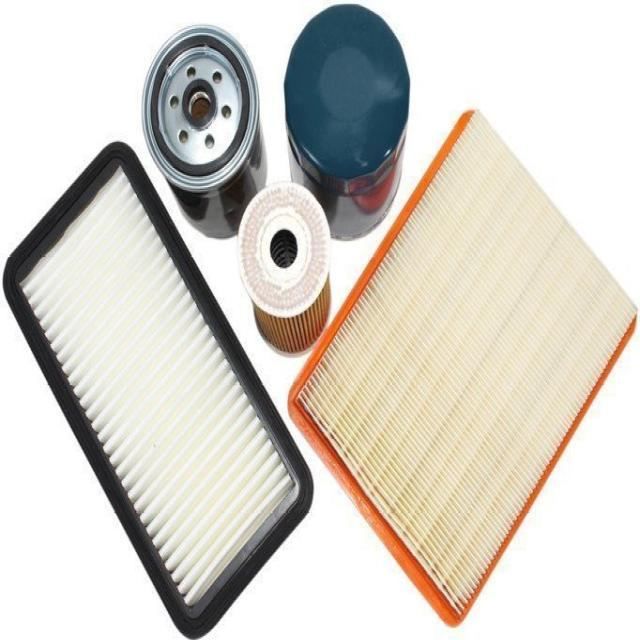air_filter: (282, 106, 639, 633), (0, 130, 317, 635)
oil_filter: (133, 12, 266, 225), (235, 177, 333, 361)
